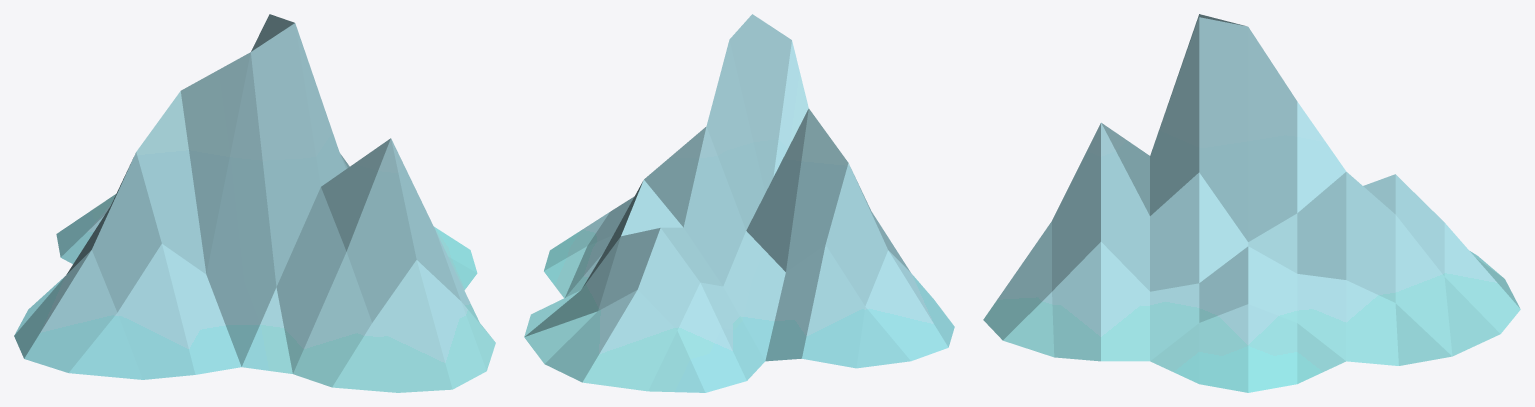
File: Glazier2.fbx
The picture shows the model from 3 angles, left to right: view 1: azimuth 30°, elevation 25°; view 2: azimuth 150°, elevation 25°; view 3: azimuth 270°, elevation 25°; orthographic projection. The views are drawn at different scales.
Visible parts, largest first — view 1: Glacier2; view 2: Glacier2; view 3: Glacier2.
Part boxes in pixels (x1,y1,x2,y2): Glacier2: [14, 14, 495, 392]; Glacier2: [524, 14, 954, 392]; Glacier2: [983, 14, 1520, 392].
Bounding box in the file's own units: 5.19 × 3.28 × 5.66.
